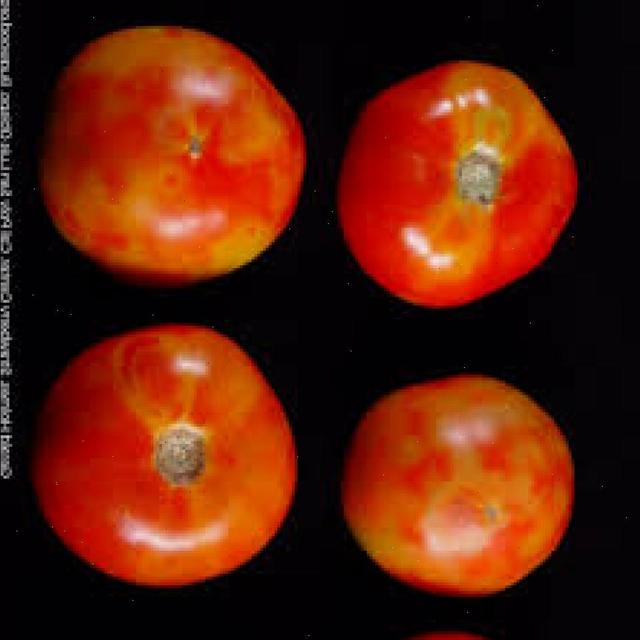Spotted wilt Virus Fruit: (142, 33, 356, 252)
